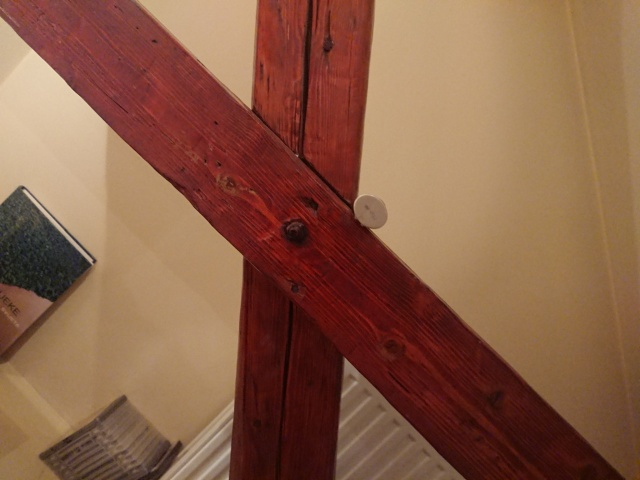Kotanyi Garlic Granules 70g: (351, 192, 390, 230)
